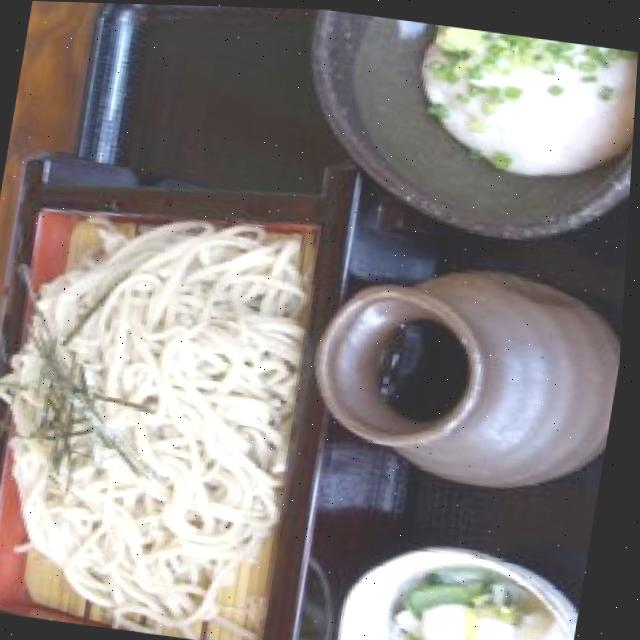面条主食: (0, 117, 362, 640)
